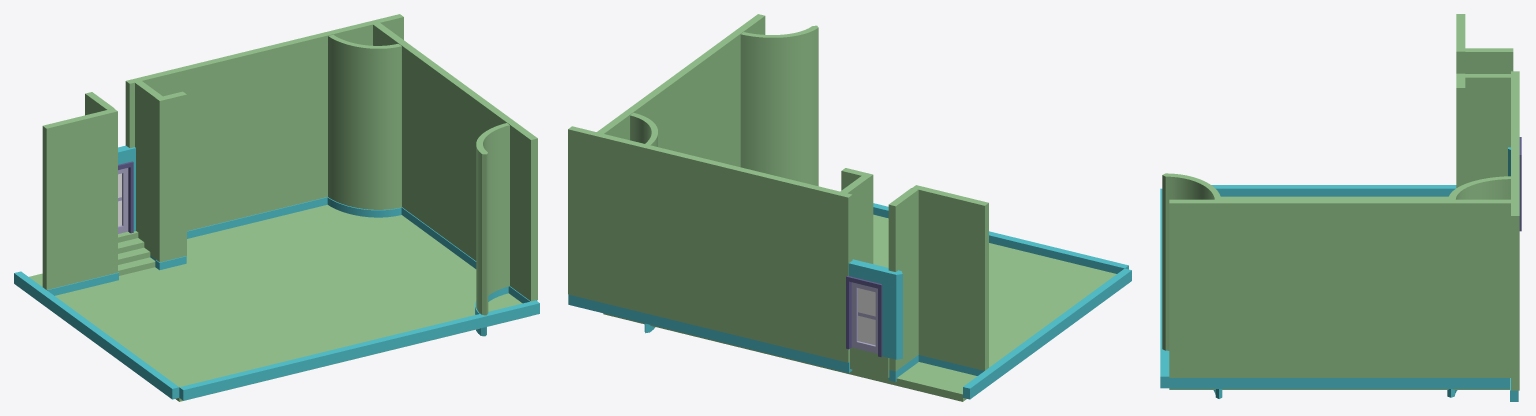
The model's file is MedigeneixClinic-2.fbx.
The picture shows the model from 3 angles, left to right: view 1: azimuth 30°, elevation 25°; view 2: azimuth 150°, elevation 25°; view 3: azimuth 270°, elevation 25°; orthographic projection. The views are drawn at different scales.
Parts seen in each view (by area): view 1: mergedBlocks; view 2: mergedBlocks; view 3: mergedBlocks.
Boxes of the visible parts, left/top/right/bottom form: mergedBlocks: left=14, top=14, right=539, bottom=401; mergedBlocks: left=568, top=14, right=1131, bottom=401; mergedBlocks: left=1160, top=14, right=1521, bottom=401.
Bounding box in the file's own units: 55.4 × 24.8 × 41.13.
